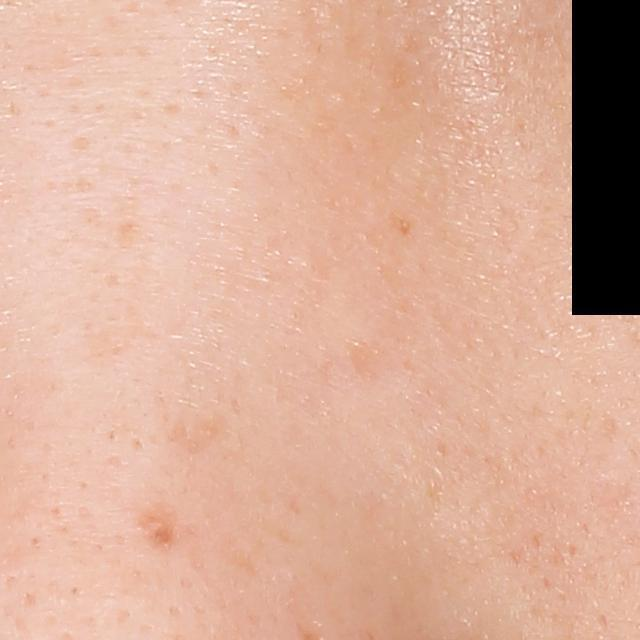melasma: (343, 336, 388, 378), (387, 213, 418, 240)
